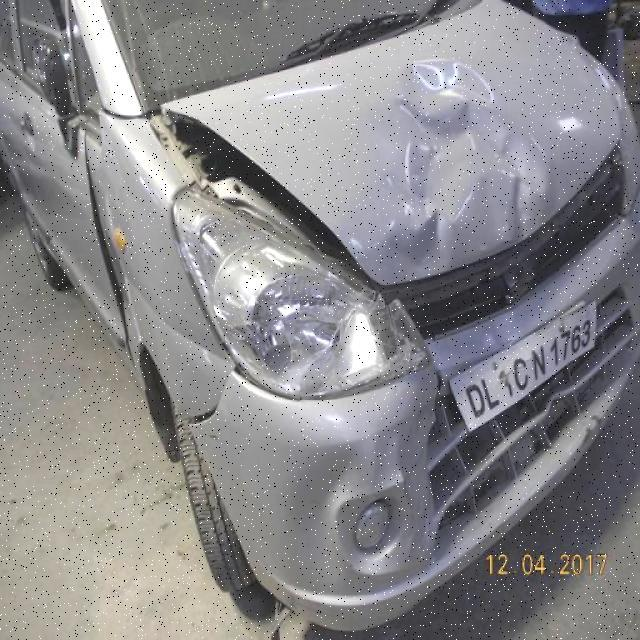car damage: (365, 55, 565, 278), (227, 277, 429, 390), (393, 342, 453, 589), (79, 138, 134, 368), (186, 352, 246, 438), (203, 427, 224, 457)
